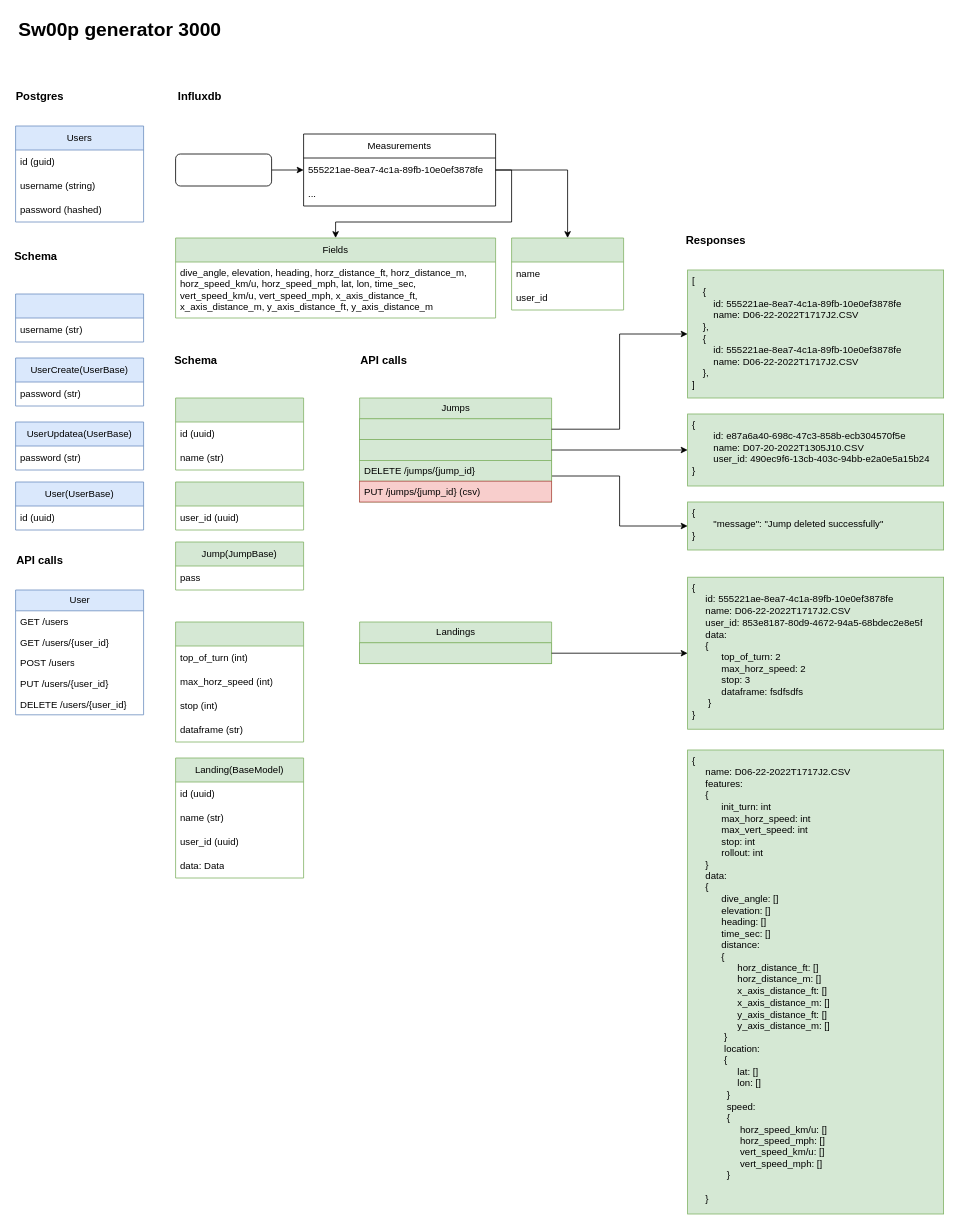
Image size: 958x1230. Some labels were removed from this diagram. Each missing label, with the box of its shape:
Bucket (flysight): (175, 153, 272, 186)
Data(BaseModel): (175, 621, 304, 742)
GET /jumps/{user_id}: (359, 418, 552, 440)
GET /landings/{jump_id}: (359, 642, 552, 664)
JumpBase(BaseModel): (175, 397, 304, 470)
JumpCreate(JumpBase): (175, 481, 304, 530)
POST /jumps (user_id, csv): (359, 439, 552, 460)
Tags: (511, 237, 624, 310)
UserBase(BaseModel): (15, 293, 144, 342)
